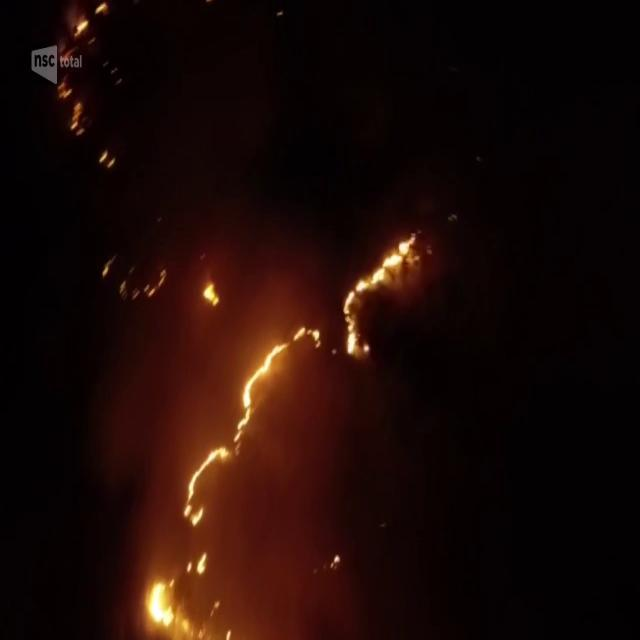Fire: (234, 328, 320, 444), (338, 239, 415, 351), (180, 450, 229, 522), (139, 583, 176, 628), (204, 286, 218, 308), (76, 21, 88, 38)
